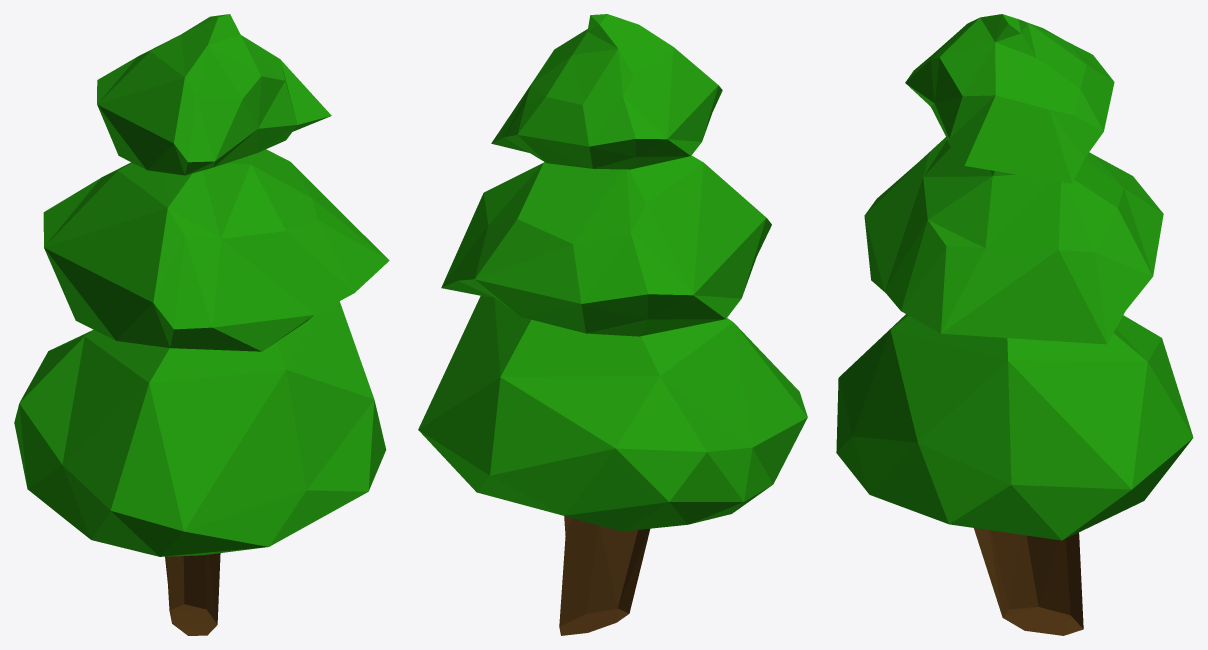
Rendered from tree_2.dae.
3 views of the same model, side by side, from view 1: azimuth 30°, elevation 25°; view 2: azimuth 150°, elevation 25°; view 3: azimuth 270°, elevation 25° (orthographic). The views are drawn at different scales.
Visible parts, largest first — view 1: Icosphere.004; view 2: Icosphere.004; view 3: Icosphere.004.
Part boxes in pixels (x1,y1,x2,y2): Icosphere.004: (14,14,389,635); Icosphere.004: (418,14,807,635); Icosphere.004: (836,14,1193,635).
Size of the model in its own units: 0.00443 by 0.00437 by 0.00827.
